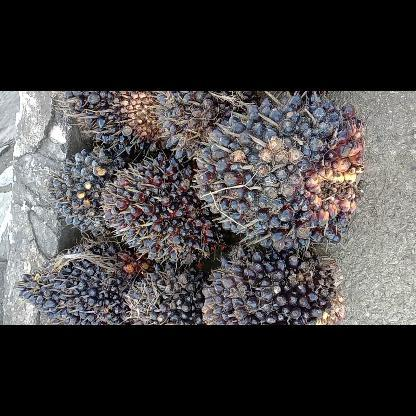TBS mentah: (194, 97, 368, 255), (94, 152, 230, 268), (11, 236, 150, 324), (200, 242, 348, 324), (42, 146, 134, 240), (59, 90, 179, 156), (146, 91, 254, 164), (122, 260, 216, 324)
